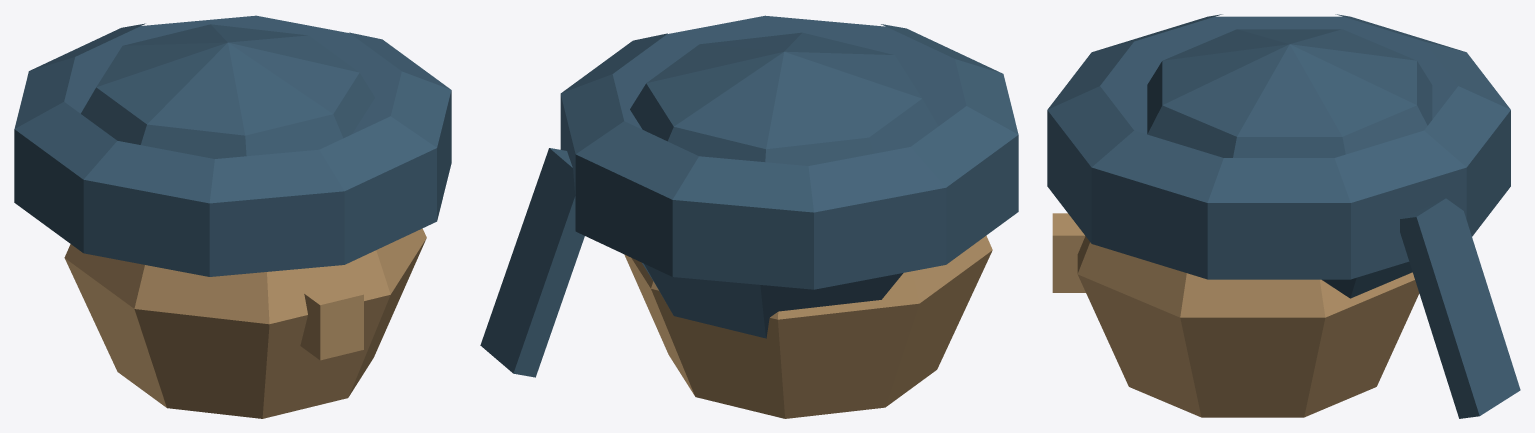
Rendered from villager-head-turban.glb.
3 renders of one model, left to right at view 1: azimuth 30°, elevation 25°; view 2: azimuth 150°, elevation 25°; view 3: azimuth 270°, elevation 25°, orthographic. The views are drawn at different scales.
Parts seen in each view (by area): view 1: head; view 2: head; view 3: head.
Boxes of the visible parts, x1=… form: head: x1=14, y1=15, x2=451, y2=418; head: x1=480, y1=15, x2=1018, y2=418; head: x1=1047, y1=14, x2=1520, y2=418.
Size of the model in its own units: 0.8697 by 0.7775 by 0.8983.
Materials: 1 (1 with a texture image).
